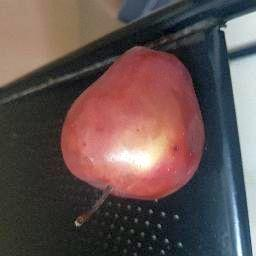apple: (40, 25, 215, 256)
